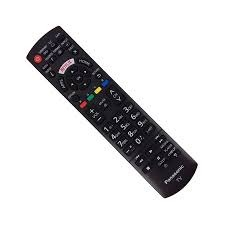remote control: (14, 20, 203, 213)
